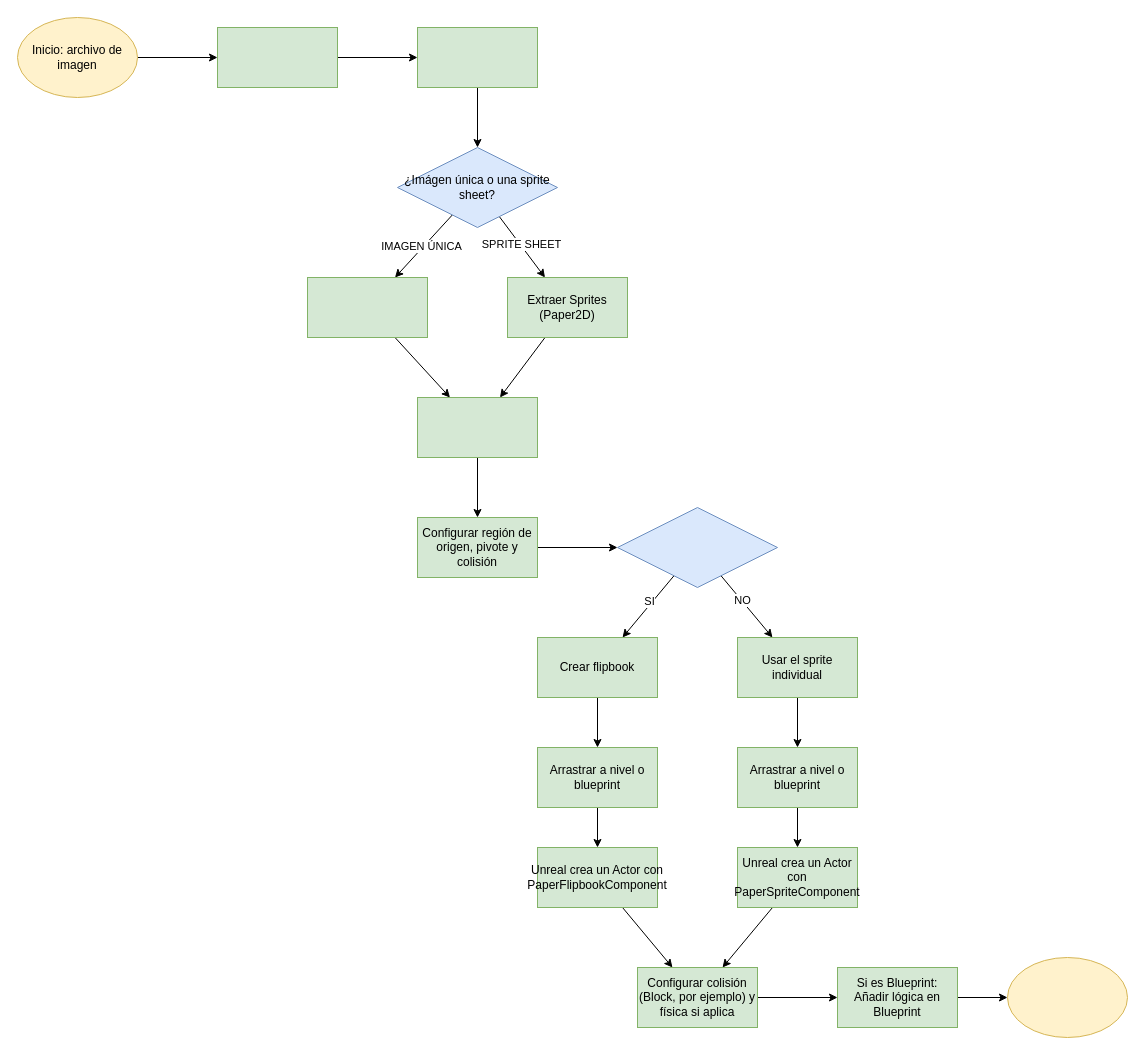
Image size: 1145x1055. Some labels were removed from this diagram. Here are the shapes that lost their labels. From the top down, the centre of each, then its label:
At point 277,57: "Importar imagen(es) al Content Browser".
At point 477,57: "Convertir imagen(es) a Texture2D".
At point 367,307: "Crear Sprite (Paper2D)".
At point 477,427: "Abrir el sprite en Sprite Editor".
At point 697,547: "¿Se necesita animación?".
At point 1067,997: "FIN".
